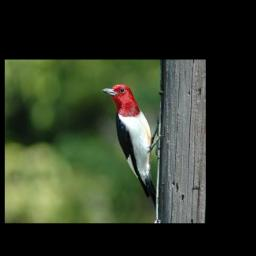Woodpecker: (101, 83, 168, 213)
